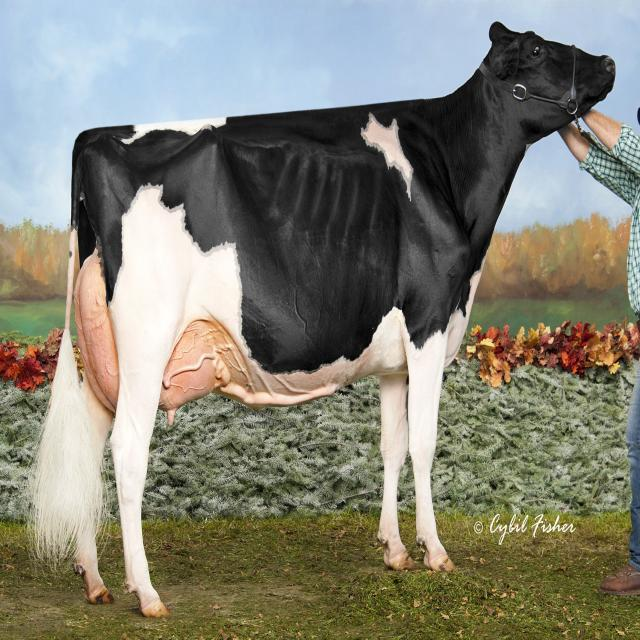cow: (44, 92, 609, 532)
